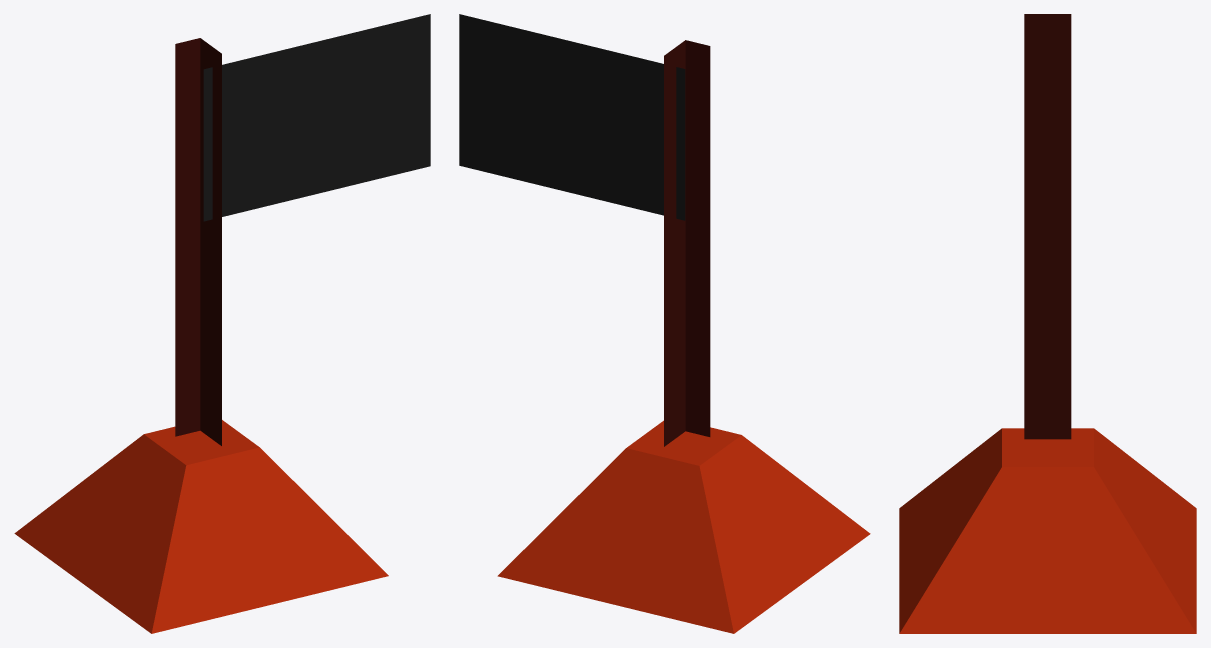
The model's file is flag1.obj.
3 renders of one model, left to right at view 1: azimuth 30°, elevation 25°; view 2: azimuth 150°, elevation 25°; view 3: azimuth 270°, elevation 25°, orthographic. The views are drawn at different scales.
Parts seen in each view (by area): view 1: Cube.001, Plane, Cube; view 2: Cube.001, Plane, Cube; view 3: Cube.001, Cube.
Boxes of the visible parts, bbox=[...] form: Cube.001: bbox=[14, 420, 388, 633]; Plane: bbox=[203, 14, 430, 221]; Cube: bbox=[175, 38, 221, 445]; Cube.001: bbox=[497, 420, 870, 633]; Plane: bbox=[459, 14, 685, 220]; Cube: bbox=[664, 40, 710, 446]; Cube.001: bbox=[899, 428, 1196, 633]; Cube: bbox=[1024, 14, 1071, 439].
Size of the model in its own units: 2.91 by 4.07 by 2.
